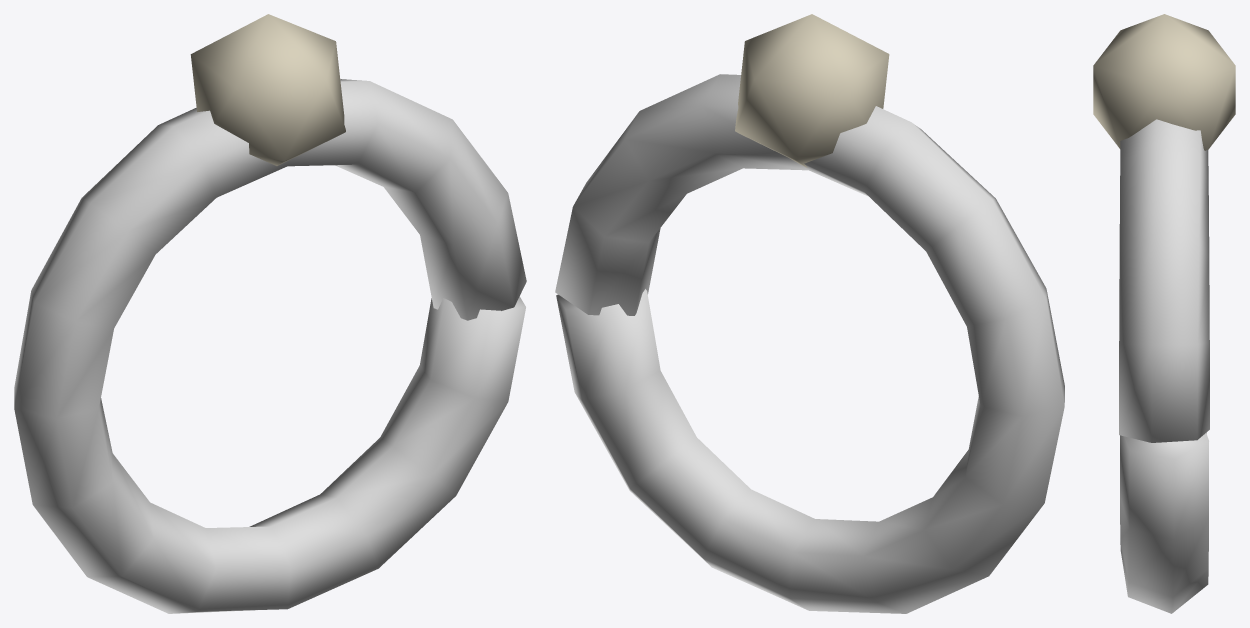
File: compass.glb
3 views of the same model, side by side, from view 1: azimuth 30°, elevation 25°; view 2: azimuth 150°, elevation 25°; view 3: azimuth 270°, elevation 25° (orthographic). The views are drawn at different scales.
Parts seen in each view (by area): view 1: compass_v0; view 2: compass_v0; view 3: compass_v0.
Boxes of the visible parts, x1=… form: compass_v0: x1=14, y1=14, x2=526, y2=613; compass_v0: x1=555, y1=14, x2=1064, y2=613; compass_v0: x1=1093, y1=14, x2=1235, y2=613.
Size of the model in its own units: 0.1674 by 0.1889 by 0.0425.
